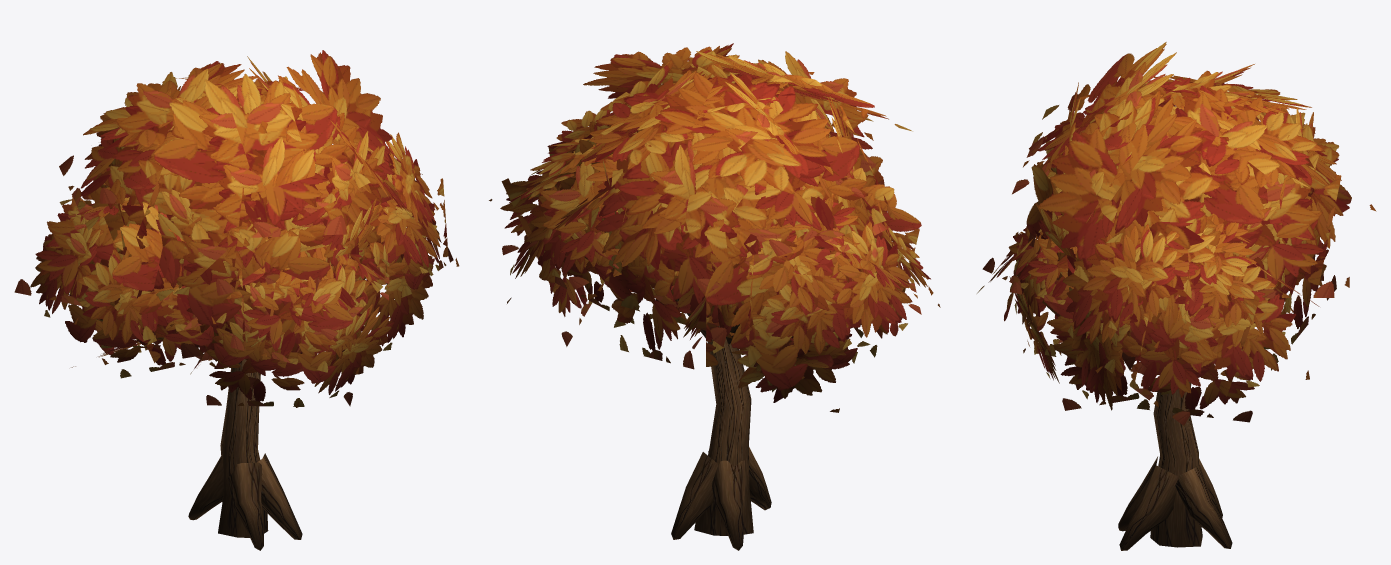
Rendered from tree_autumn_a.glb.
The picture shows the model from 3 angles, left to right: view 1: azimuth 30°, elevation 25°; view 2: azimuth 150°, elevation 25°; view 3: azimuth 270°, elevation 25°; orthographic projection. The views are drawn at different scales.
Parts seen in each view (by area): view 1: tree_autumn_a; view 2: tree_autumn_a; view 3: tree_autumn_a.
Part boxes in pixels (x1,y1,x2,y2): tree_autumn_a: (14, 50, 459, 550); tree_autumn_a: (489, 43, 940, 550); tree_autumn_a: (977, 42, 1376, 550).
Size of the model in its own units: 3.86 by 4.23 by 3.18.
Materials: 2 (2 with a texture image).
